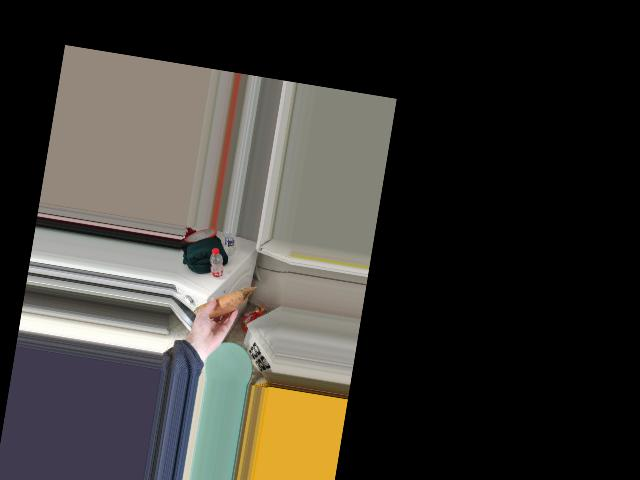sweet_potato: (203, 286, 240, 321)
